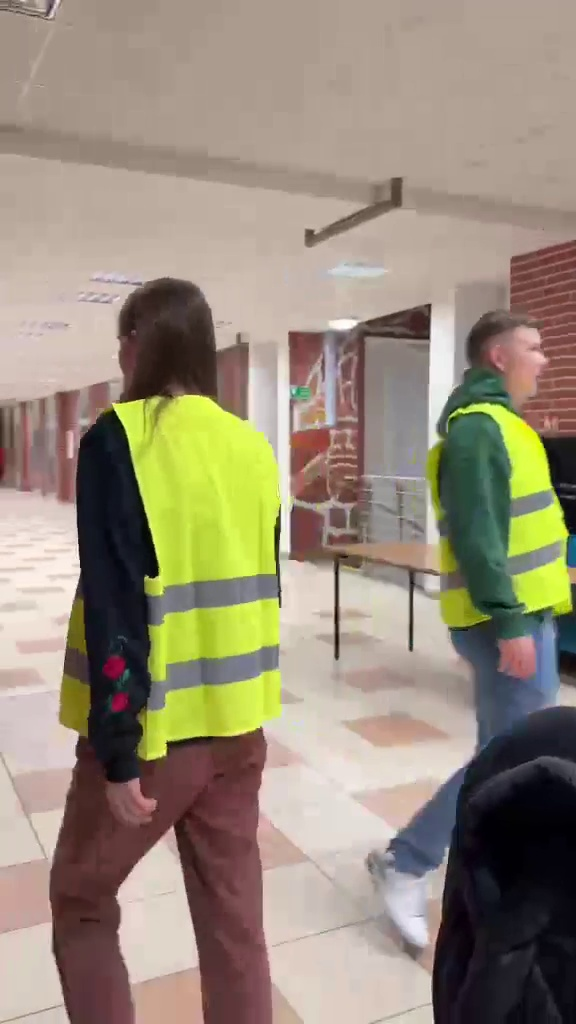vest: (35, 274, 304, 1016), (376, 283, 576, 974)
